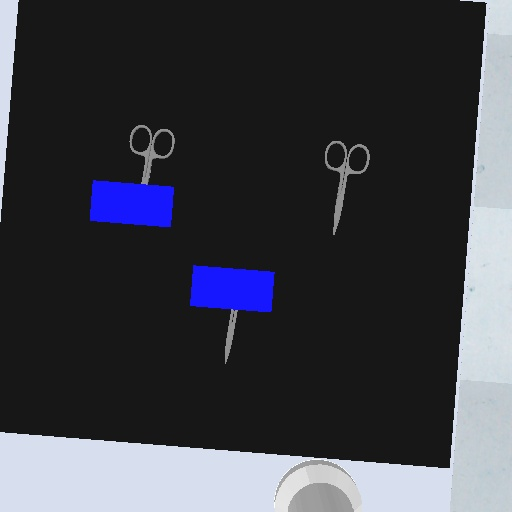tijera: (321, 137, 372, 238), (127, 123, 178, 185), (220, 308, 240, 366)
